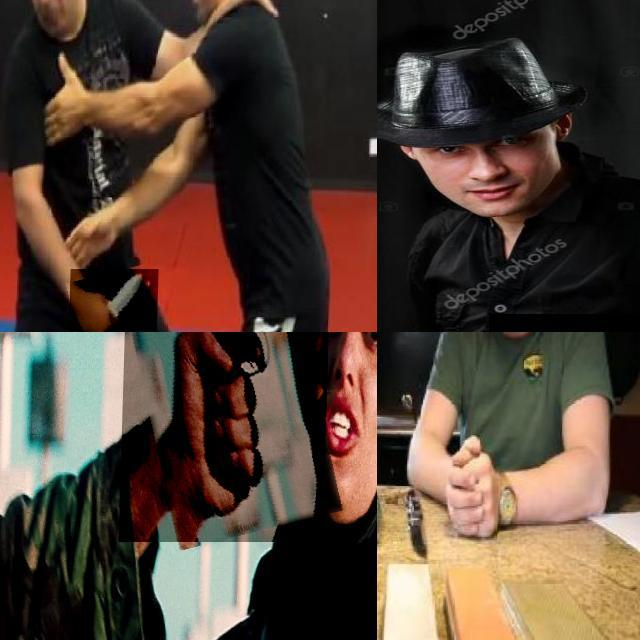-: (71, 268, 161, 332), (377, 437, 409, 542)
gun-knife-thesis - v11 Yolov5 augmented: (121, 332, 333, 542)
